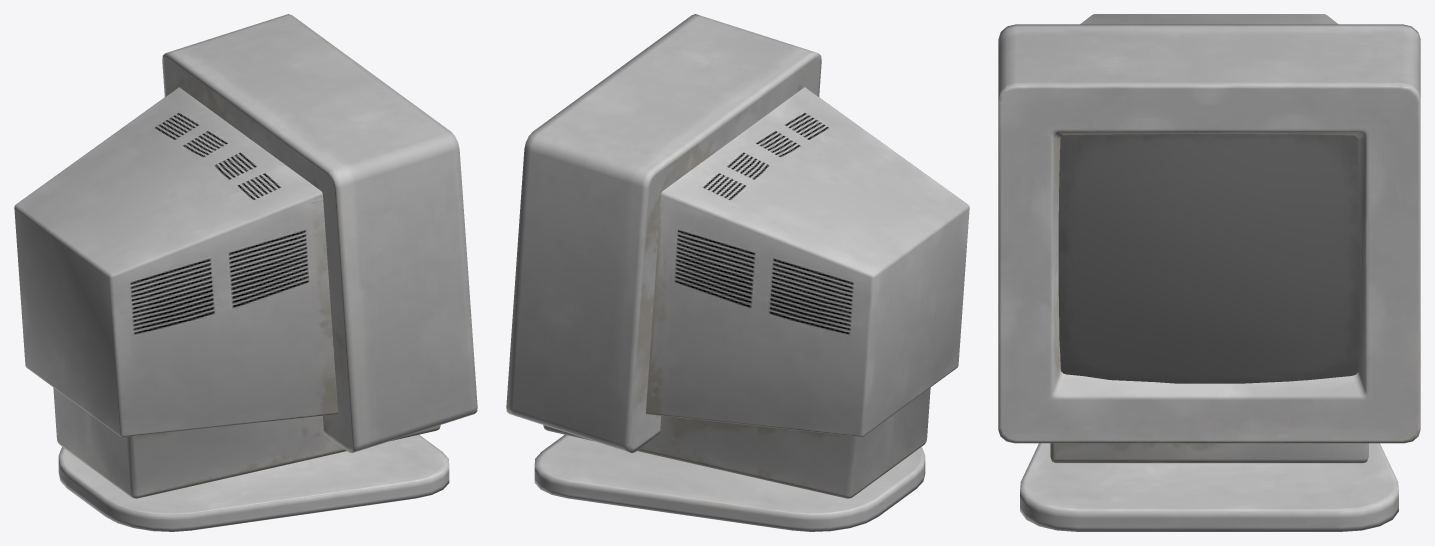
The picture shows the model from 3 angles, left to right: view 1: azimuth 30°, elevation 25°; view 2: azimuth 150°, elevation 25°; view 3: azimuth 270°, elevation 25°; orthographic projection. The views are drawn at different scales.
Parts seen in each view (by area): view 1: Cube_Material_0; view 2: Cube_Material_0; view 3: Cube_Material_0.
Part boxes in pixels (<box>): Cube_Material_0: <box>14,14,477,531</box>; Cube_Material_0: <box>506,14,969,531</box>; Cube_Material_0: <box>998,14,1420,531</box>.
Bounding box in the file's own units: 218 × 228 × 200.
Materials: 1 (1 with a texture image).
